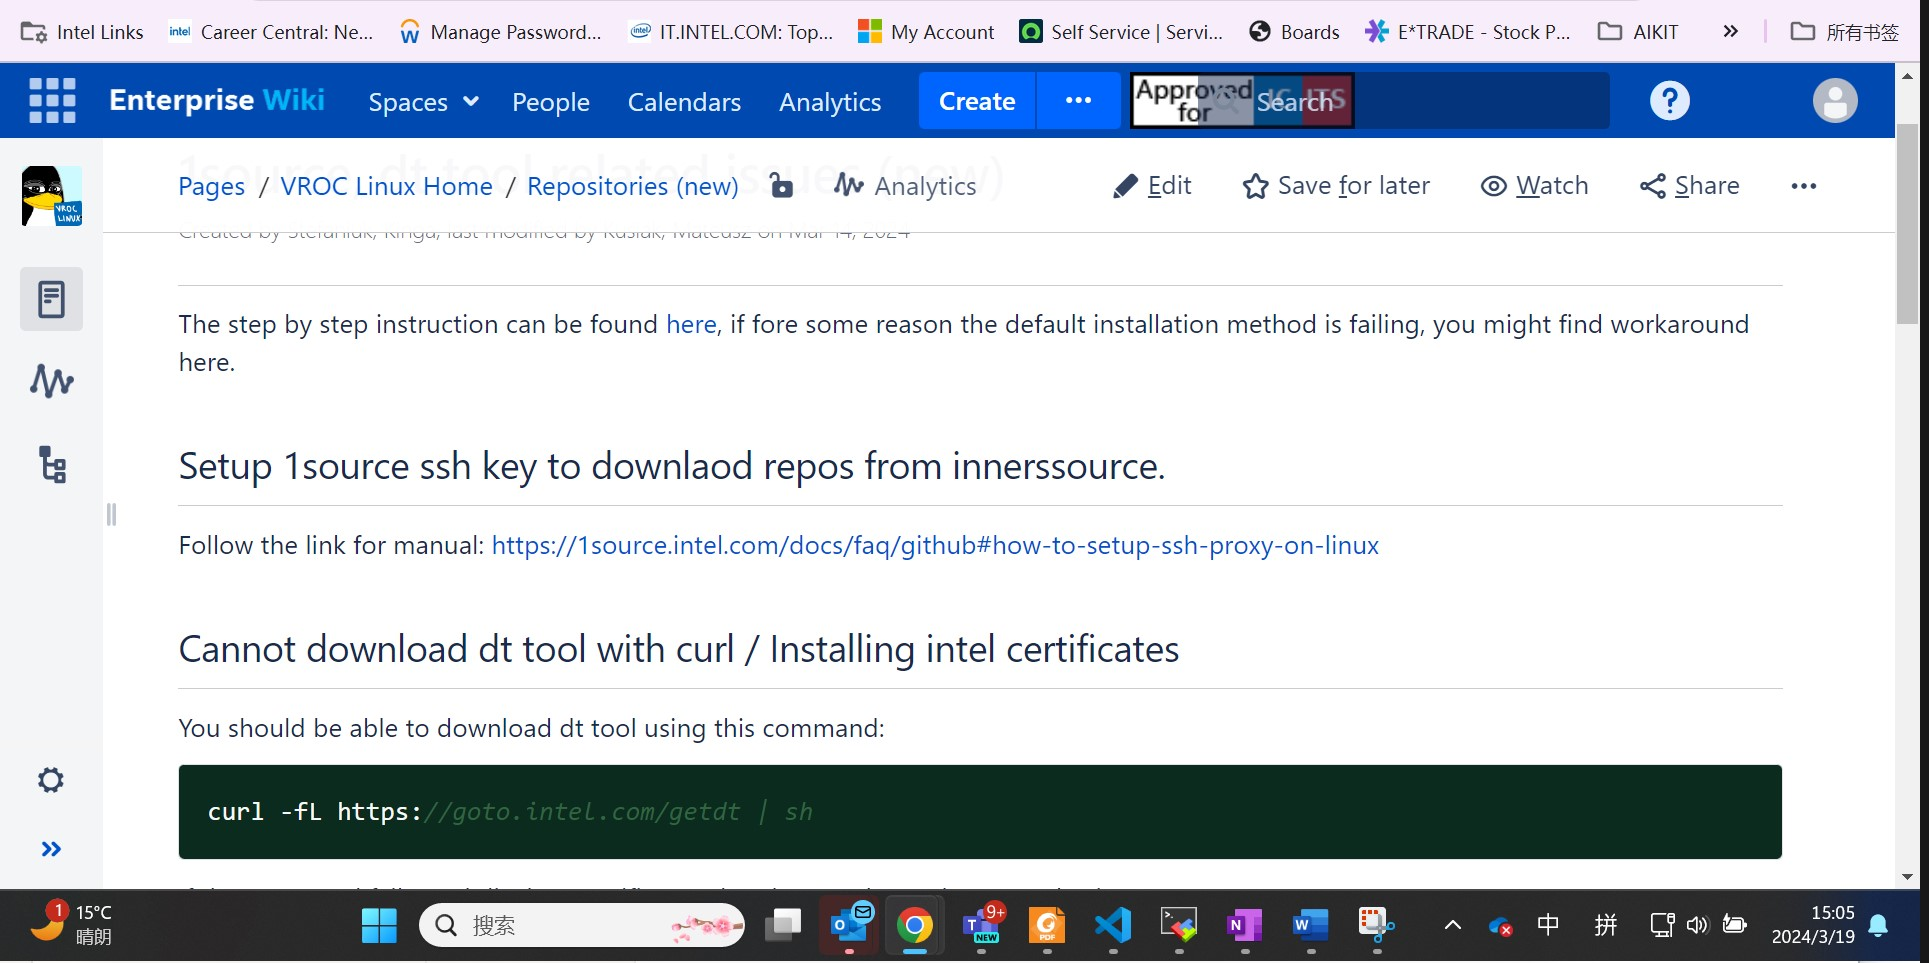button_create: (917, 66, 1037, 132)
search_box: (1183, 55, 1605, 138)
